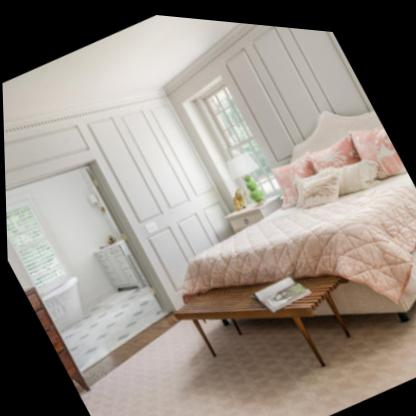Futec frame: (81, 72, 237, 261), (220, 20, 372, 148)
